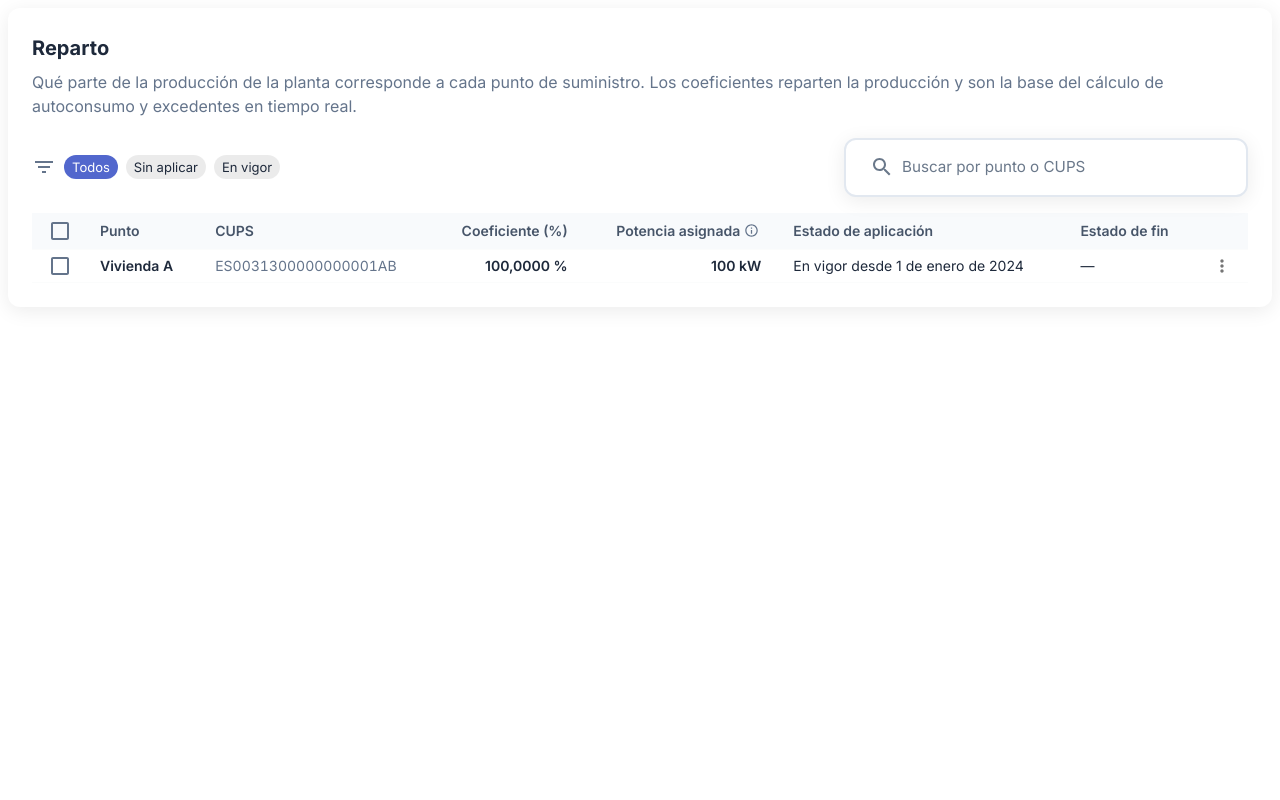
Test: CoefficientHistoryDrawer — reachable from every agreement status › names the supply it is showing
This screenshot has width=1280, height=800.
Click the button named "Más acciones" at (1222, 266), box x1=1212 y1=256 x2=1232 y2=276
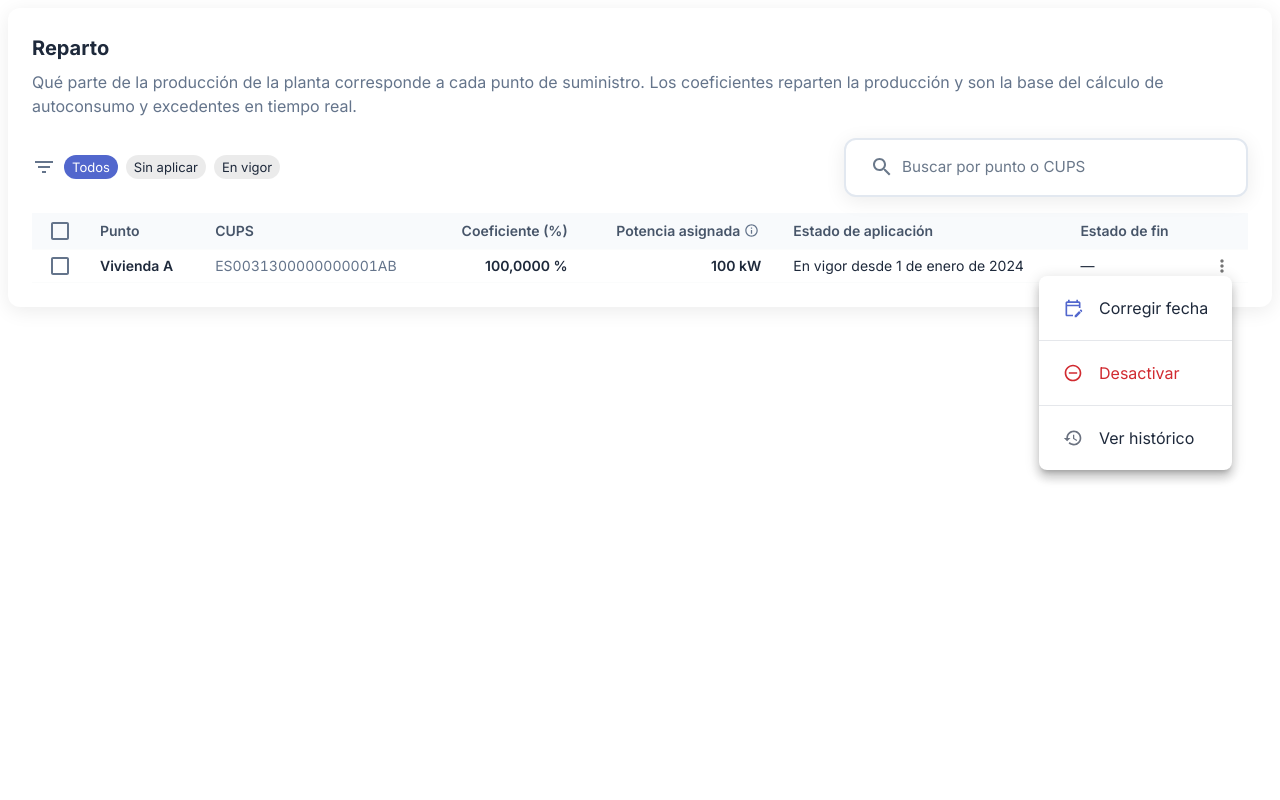
Click the menu item "Ver histórico" at (1129, 438), box x1=1063 y1=428 x2=1194 y2=448
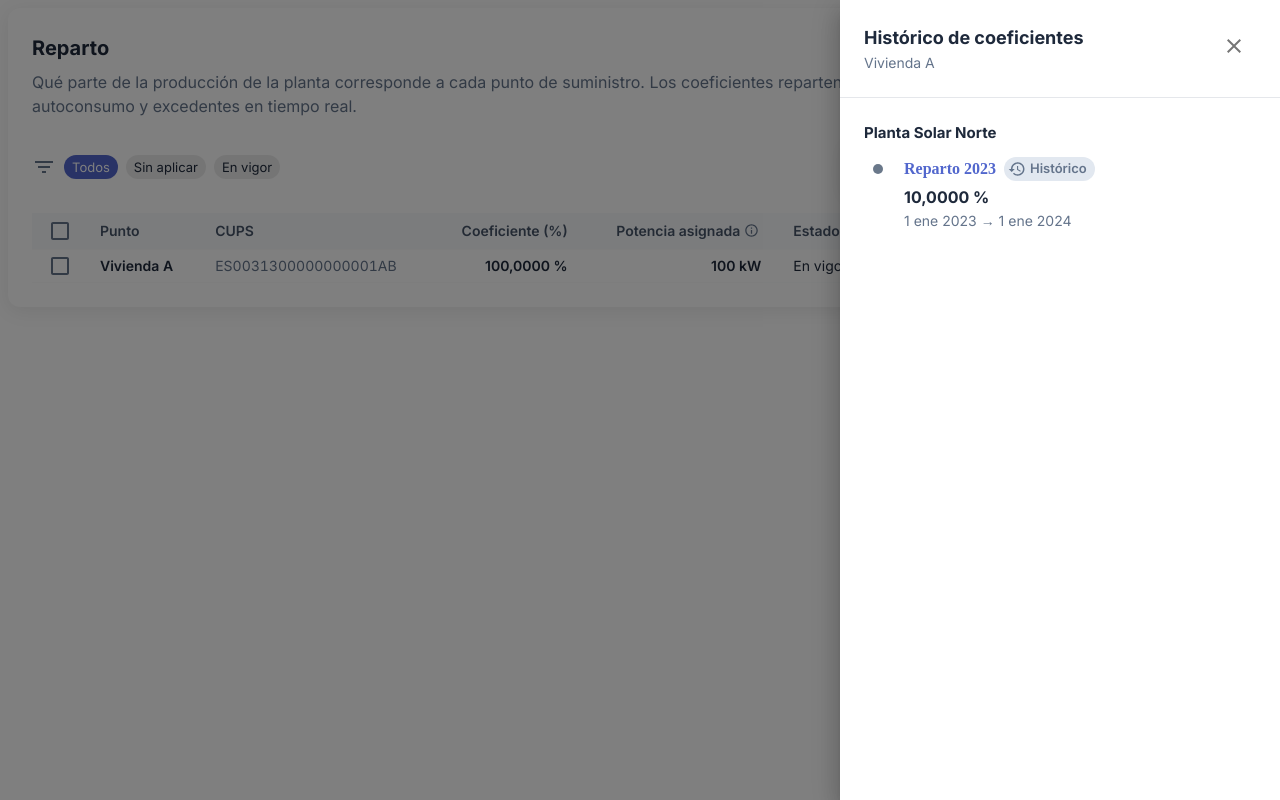
Expected: the dialog named "Histórico de coeficientes de Vivienda A" is shown, x1=840 y1=0 x2=1279 y2=799
